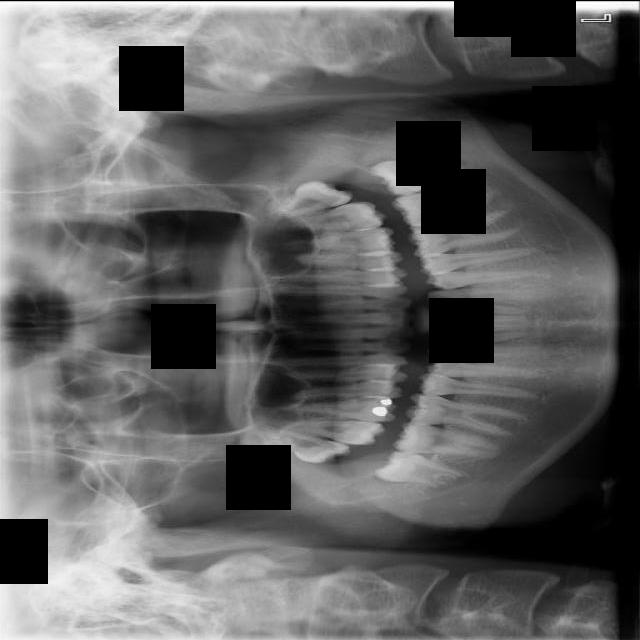3M ESPE Implant: (256, 425, 352, 469)
52: (355, 394, 397, 421)
73: (586, 16, 596, 22)
BioHorizons Implant: (270, 200, 386, 236)
BioLife Implant: (260, 168, 352, 225)
Biomet 3i Implant: (369, 147, 466, 199)
Blue Sky Bio Implant: (392, 183, 496, 228)
Caries: (283, 419, 384, 445)
Implant: (395, 418, 498, 467)
Keystone Dental Implant: (374, 446, 469, 492)
